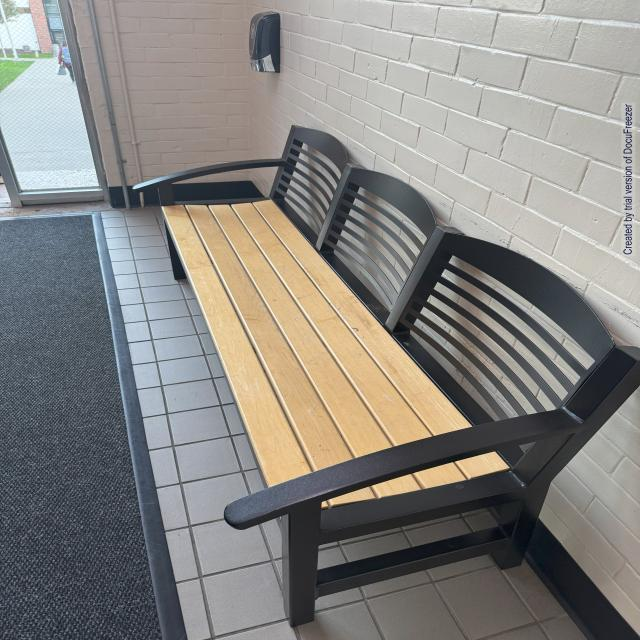chair: (124, 112, 640, 640)
